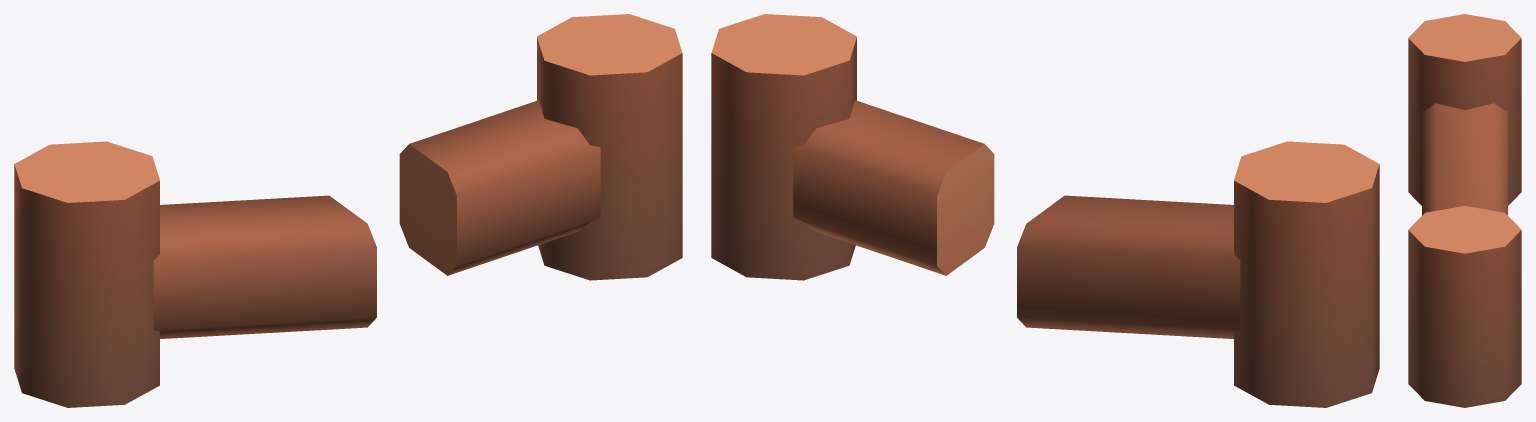
The model's file is kenney-platformer-fence-low-broken.glb.
The picture shows the model from 3 angles, left to right: view 1: azimuth 30°, elevation 25°; view 2: azimuth 150°, elevation 25°; view 3: azimuth 270°, elevation 25°; orthographic projection. The views are drawn at different scales.
Parts seen in each view (by area): view 1: fence-low-broken; view 2: fence-low-broken; view 3: fence-low-broken.
Part boxes in pixels (box(x1,y1,x2,y2)): fence-low-broken: box(14, 14, 682, 407); fence-low-broken: box(711, 14, 1379, 407); fence-low-broken: box(1408, 14, 1521, 407).
Bounding box in the file's own units: 1 × 0.3 × 0.2.
Materials: 1 (1 with a texture image).
